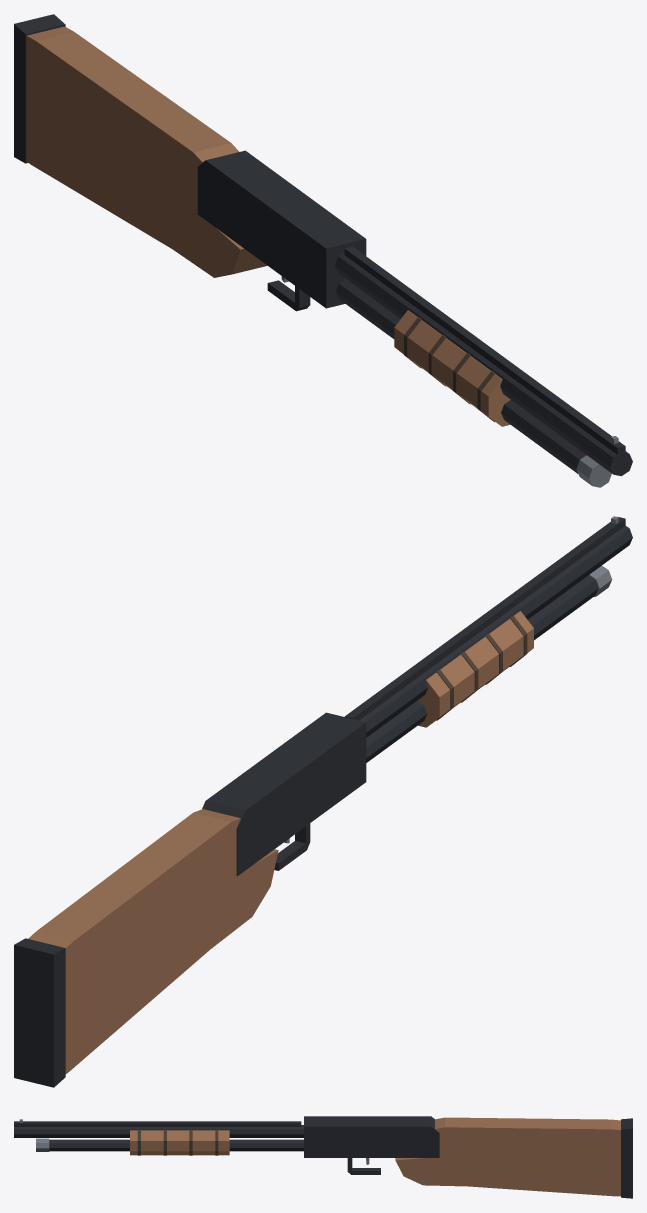
The model's file is shotgun.glb.
3 views of the same model, one above another, from view 1: azimuth 30°, elevation 25°; view 2: azimuth 150°, elevation 25°; view 3: azimuth 270°, elevation 25° (orthographic). The views are drawn at different scales.
Parts seen in each view (by area): view 1: shotgun_mesh; view 2: shotgun_mesh; view 3: shotgun_mesh.
Part boxes in pixels (x1,y1,x2,y2): shotgun_mesh: [14, 14, 632, 487]; shotgun_mesh: [14, 516, 632, 1087]; shotgun_mesh: [14, 1116, 632, 1198].
Bounding box in the file's own units: 0.0514 × 0.147 × 1.12.
Materials: 1 (1 with a texture image).
